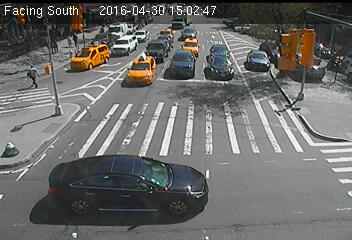neg: (211, 159, 251, 212), (196, 39, 228, 82), (148, 38, 179, 79), (290, 173, 320, 213), (164, 156, 193, 195), (284, 25, 312, 63), (88, 83, 111, 113), (139, 105, 161, 135), (7, 132, 29, 161), (277, 100, 299, 129), (85, 33, 107, 61), (69, 159, 89, 186), (327, 65, 347, 91), (242, 51, 260, 75), (250, 120, 266, 142), (14, 27, 27, 44)
pos: (21, 60, 43, 89), (69, 28, 82, 45), (49, 39, 62, 56)
